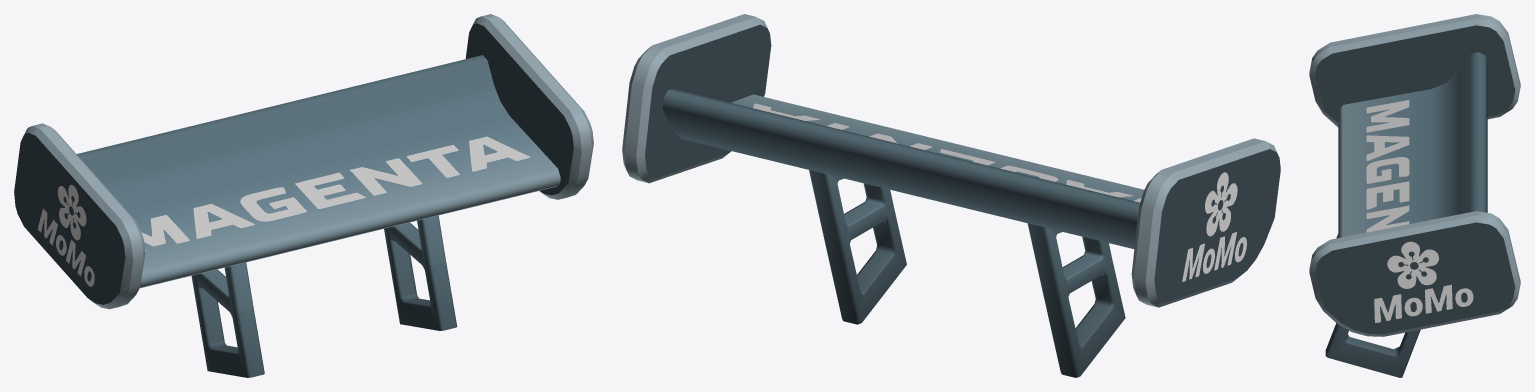
Rendered from Car_08_Spoiler.fbx.
3 views of the same model, side by side, from view 1: azimuth 30°, elevation 25°; view 2: azimuth 150°, elevation 25°; view 3: azimuth 270°, elevation 25° (orthographic). The views are drawn at different scales.
Parts seen in each view (by area): view 1: Car_08_Spoiler; view 2: Car_08_Spoiler; view 3: Car_08_Spoiler.
Boxes of the visible parts, <box> form: Car_08_Spoiler: <box>14,14,593,377</box>; Car_08_Spoiler: <box>622,14,1280,377</box>; Car_08_Spoiler: <box>1309,14,1520,377</box>.
Bounding box in the file's own units: 219 × 94.57 × 108.
